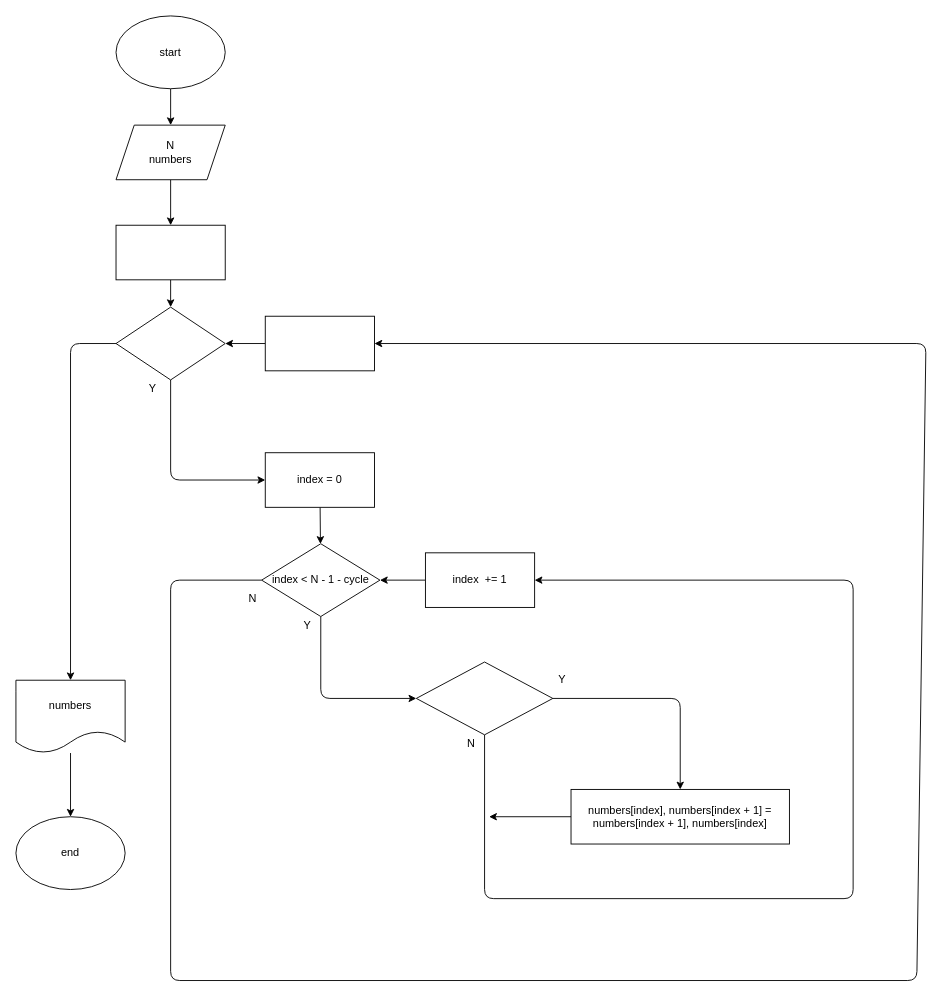
Image size: 949x1004. Some labels were removed from this diagram. Each missing label, with the centre of its shape:
"cycle += 1" goes at (x=319, y=343).
"cycle < N - 1" goes at (x=170, y=343).
"cycle = 0" goes at (x=170, y=252).
"numbers[index] > numbers[index + 1]" goes at (x=484, y=698).
